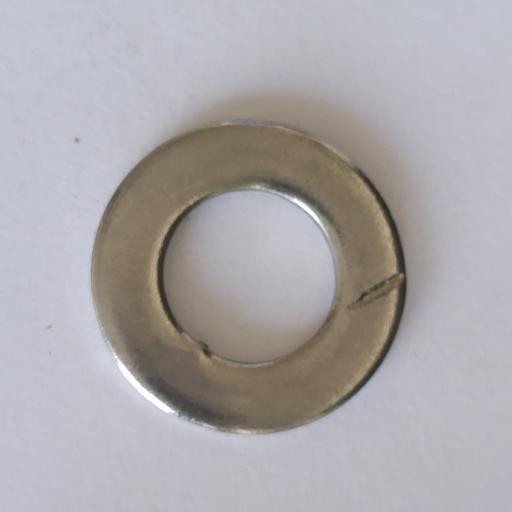scratch: (346, 273, 406, 311)
